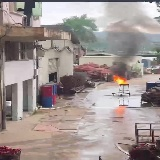fire: (113, 75, 128, 84)
